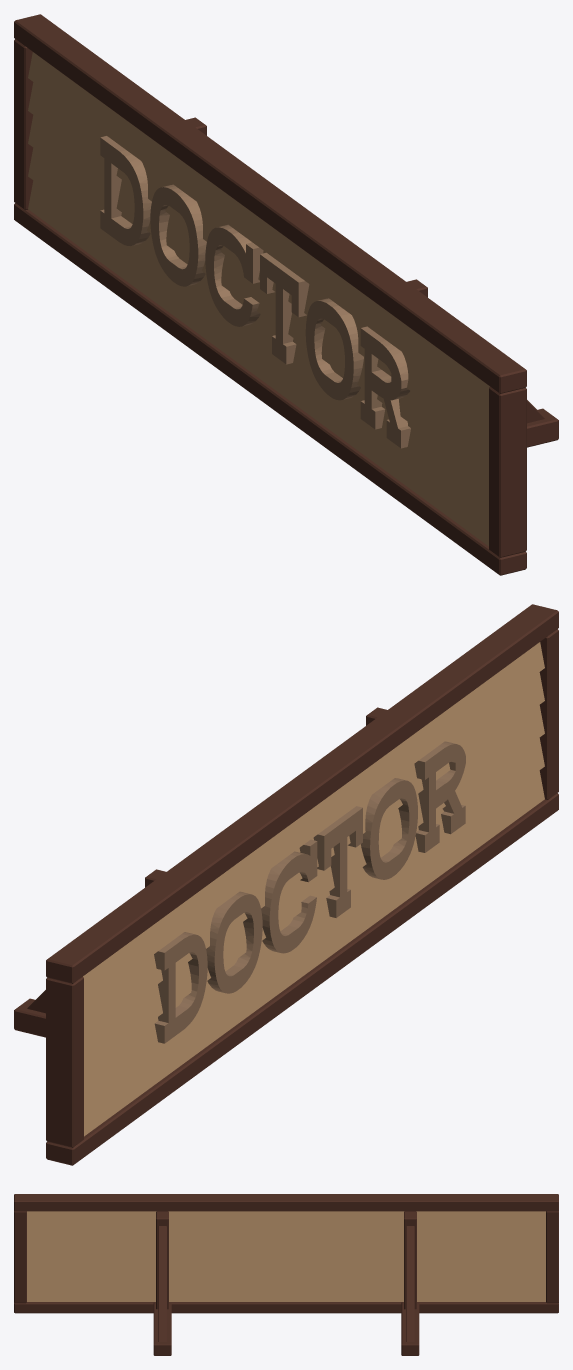
Rendered from doctor-sign-a.glb.
3 renders of one model, top to bottom at view 1: azimuth 30°, elevation 25°; view 2: azimuth 150°, elevation 25°; view 3: azimuth 270°, elevation 25°, orthographic. The views are drawn at different scales.
Parts seen in each view (by area): view 1: Doctor Sign A (×3); view 2: Doctor Sign A (×3); view 3: Doctor Sign A (×2).
Boxes of the visible parts, x1,y1,x2,y2 form: Doctor Sign A (×3): (14, 14, 558, 575); Doctor Sign A (×3): (14, 604, 558, 1165); Doctor Sign A (×2): (14, 1194, 558, 1355).
Size of the model in its own units: 1.46 by 1.5 by 6.6.
